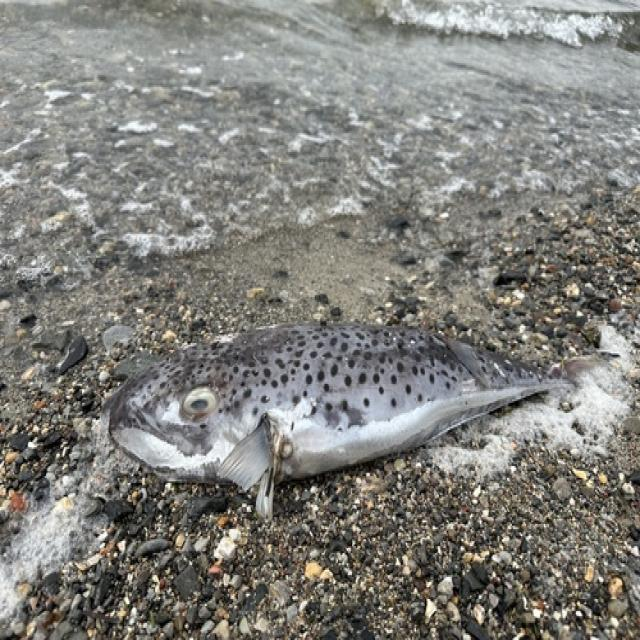Balik: (103, 325, 560, 517)
